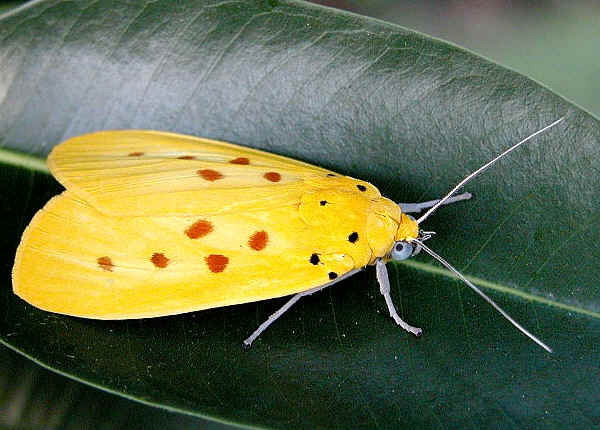Agape chloropyga: (8, 119, 564, 366)
moth: (10, 121, 566, 368)
